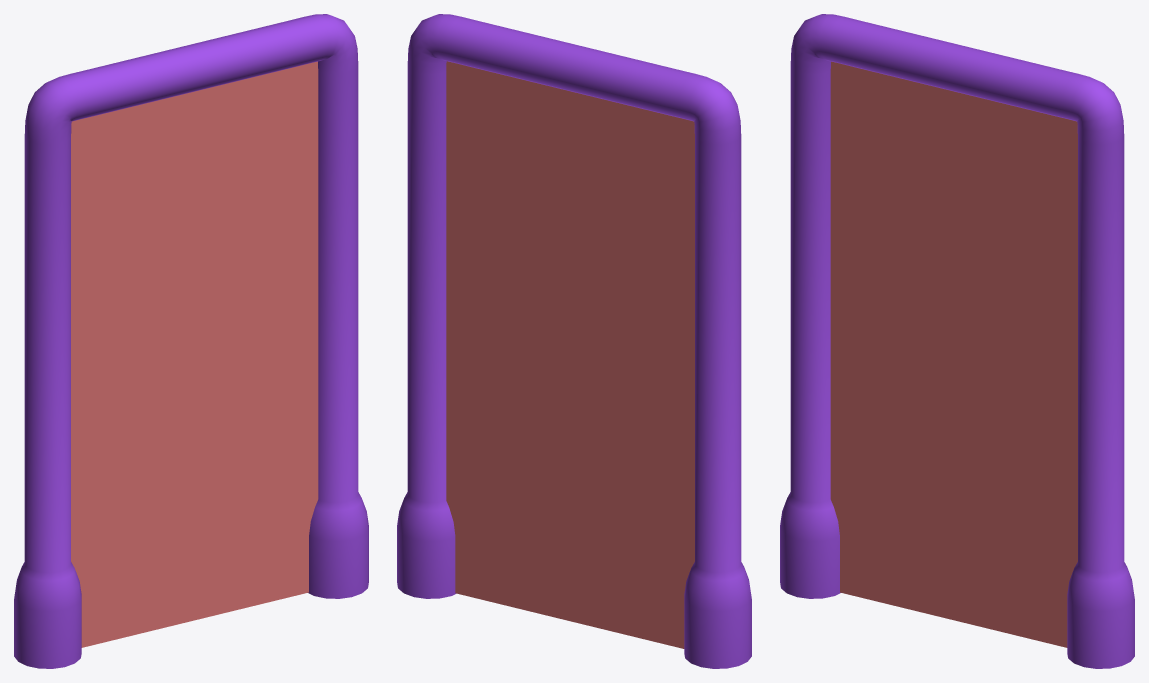
The model's file is Doors_Purple_2.fbx.
The picture shows the model from 3 angles, left to right: view 1: azimuth 30°, elevation 25°; view 2: azimuth 150°, elevation 25°; view 3: azimuth 330°, elevation 25°; orthographic projection.
Parts seen in each view (by area): view 1: Plane 1, Doors Framework; view 2: Plane 2, Doors Framework; view 3: Plane 1, Doors Framework.
Part boxes in pixels (left/top/right/bottom): Plane 1: left=71, top=61, right=318, bottom=647; Doors Framework: left=14, top=14, right=368, bottom=668; Plane 2: left=446, top=61, right=694, bottom=648; Doors Framework: left=397, top=14, right=751, bottom=668; Plane 1: left=830, top=61, right=1077, bottom=647; Doors Framework: left=780, top=14, right=1134, bottom=668.
Bounding box in the file's own units: 135 × 213 × 23.01.
Materials: 2 (2 with a texture image).
